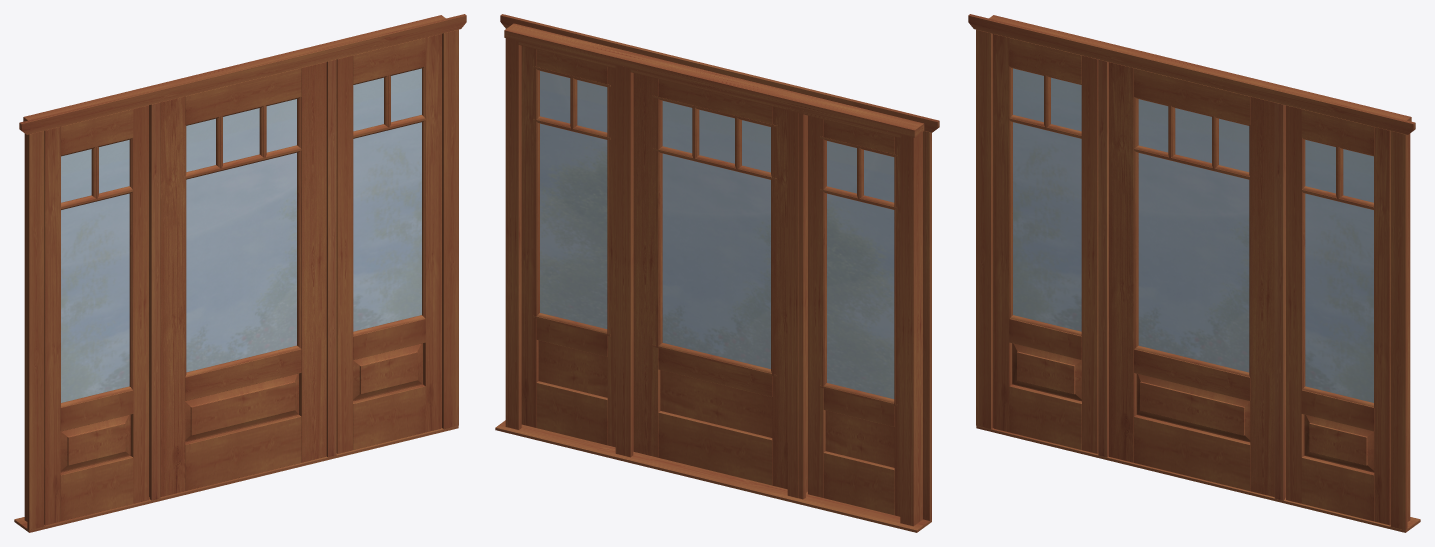
The picture shows the model from 3 angles, left to right: view 1: azimuth 30°, elevation 25°; view 2: azimuth 150°, elevation 25°; view 3: azimuth 330°, elevation 25°; orthographic projection.
Visible parts, largest first — view 1: glass, glass002, glass001, door_right, door_left, trim_left001, door_left002, trim_left004, door_left001, door_right002, trim_top, door_right001 (+24 smaller); view 2: glass, glass002, glass001, door_right, box_left001, box_top, door_left002, door_right001, door_left, door_bottom, threshold, panel_extruded001 (+32 smaller); view 3: glass, glass002, glass001, door_left, door_right, trim_left004, door_left001, trim_left001, door_left002, door_right001, trim_top, door_right002 (+24 smaller).
Part boxes in pixels (x1,y1,x2,y2): glass: (186,99,296,372); glass002: (353,68,421,331); glass001: (61,140,129,402); door_right: (299,62,326,462); door_left: (160,96,185,496); trim_left001: (27,131,44,530); door_left002: (423,34,441,432); trim_left004: (442,29,458,429); door_left001: (44,127,60,525); door_right002: (336,55,352,453); trim_top: (19,14,466,134); door_right001: (130,105,148,503); glass: (662,101,770,368); glass002: (540,71,607,328); glass001: (827,141,894,398); door_right: (633,73,660,457); box_left001: (904,132,922,526); box_top: (504,23,924,137); door_left002: (521,46,538,427); door_right001: (808,115,825,497); door_left: (772,107,787,489); door_bottom: (658,411,772,485); threshold: (495,420,931,532); panel_extruded001: (660,370,772,437); glass: (1138,99,1249,372); glass002: (1305,140,1373,402); glass001: (1013,68,1081,331); door_left: (1109,62,1136,462); door_right: (1250,96,1274,496); trim_left004: (1390,131,1407,530); door_left001: (993,34,1011,432); trim_left001: (976,29,992,429); door_left002: (1374,127,1390,525); door_right001: (1082,55,1098,453); trim_top: (968,14,1415,134); door_right002: (1286,105,1304,503).
Size of the model in its own units: 93.03 by 82 by 5.5.
Materials: 8 (8 with a texture image).
